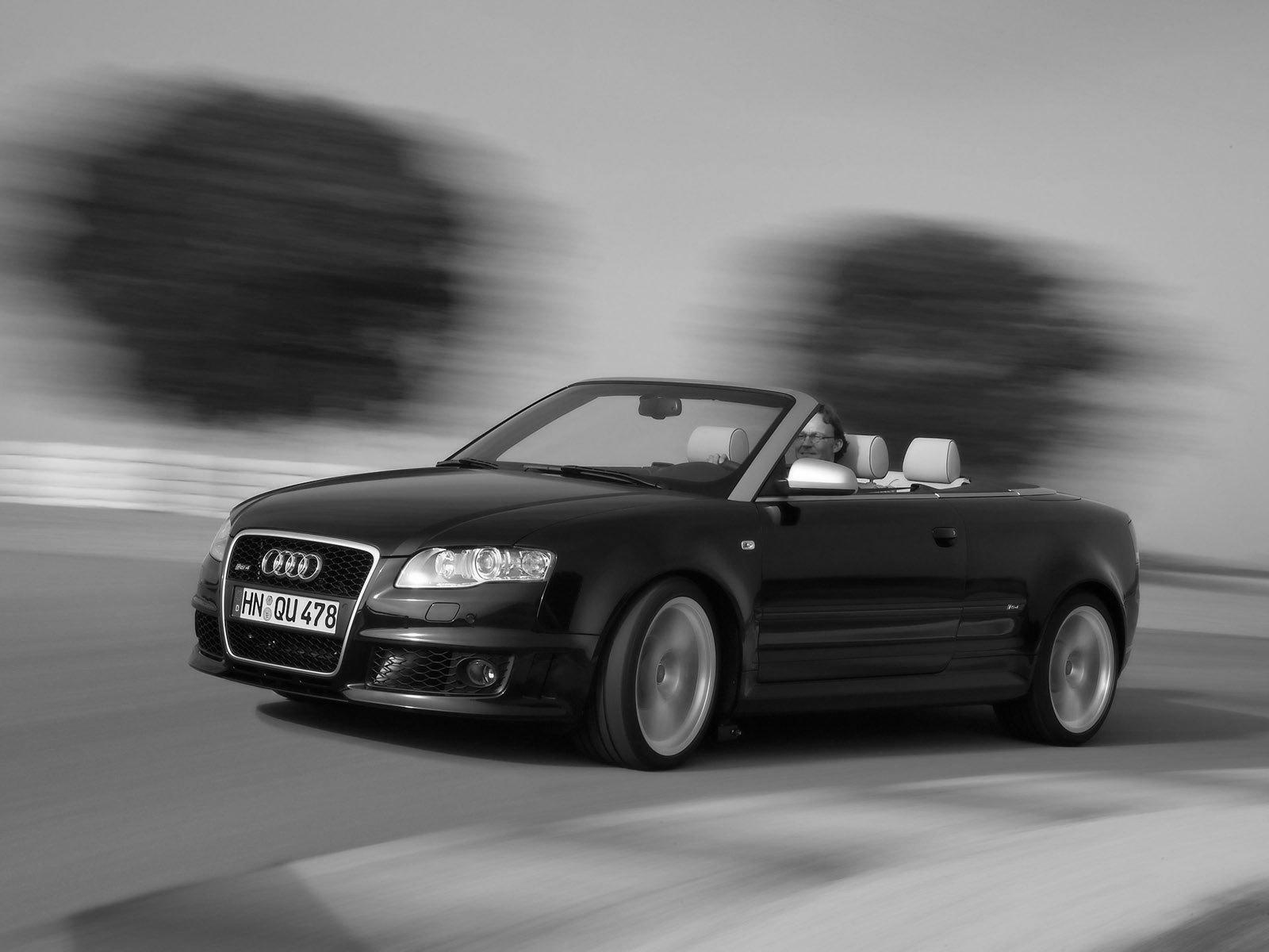car: (191, 379, 1143, 772)
